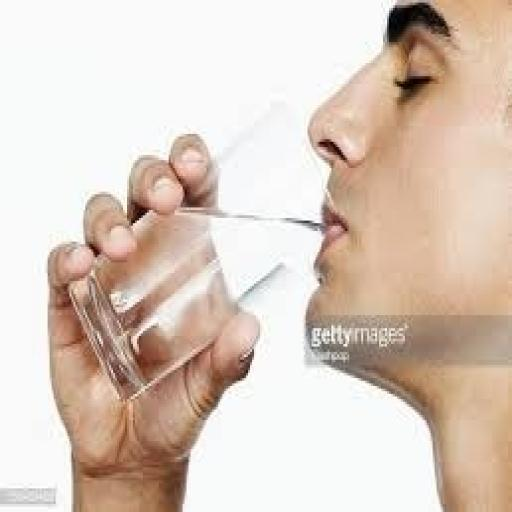drinking: (66, 202, 328, 402)
